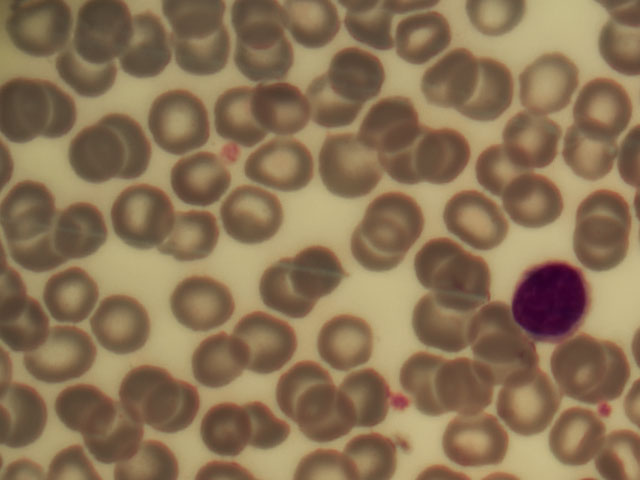Platelets: (219, 139, 241, 167), (389, 393, 416, 414), (600, 397, 613, 416)
RBC: (1, 369, 48, 448), (59, 40, 123, 96), (108, 18, 172, 73), (24, 84, 88, 139), (4, 78, 68, 133), (70, 125, 134, 180), (91, 115, 155, 170), (102, 186, 166, 241), (53, 209, 117, 264), (19, 223, 83, 278), (5, 179, 69, 234), (42, 266, 106, 321), (28, 325, 92, 380), (101, 298, 165, 353), (170, 270, 234, 325), (162, 206, 226, 261), (166, 146, 230, 201), (145, 98, 209, 153), (211, 82, 275, 137), (251, 81, 315, 136), (307, 77, 371, 132), (330, 48, 394, 103), (231, 38, 295, 93), (286, 1, 350, 56), (400, 12, 464, 67), (417, 49, 481, 104), (451, 61, 515, 116), (517, 53, 581, 108), (502, 114, 566, 169), (473, 143, 537, 198), (506, 178, 570, 233), (453, 193, 517, 248), (361, 191, 425, 246), (348, 222, 412, 277), (322, 139, 386, 194), (357, 92, 421, 147), (376, 120, 440, 175), (404, 125, 468, 180), (424, 240, 488, 295), (450, 194, 514, 249), (439, 258, 503, 313), (417, 298, 481, 353), (314, 314, 378, 369), (292, 243, 356, 298), (263, 267, 327, 322), (236, 316, 300, 371), (194, 333, 258, 388), (151, 383, 215, 438), (121, 372, 185, 427), (84, 408, 148, 463), (61, 385, 125, 440), (198, 400, 262, 455), (272, 368, 336, 423), (283, 387, 347, 442), (332, 375, 396, 430), (402, 350, 466, 405), (443, 357, 507, 412), (487, 341, 551, 396), (500, 376, 564, 431), (540, 345, 604, 400), (572, 339, 636, 394), (548, 405, 612, 460), (445, 415, 509, 470), (9, 1, 73, 55), (75, 1, 139, 55)
WBC: (505, 257, 590, 335)
